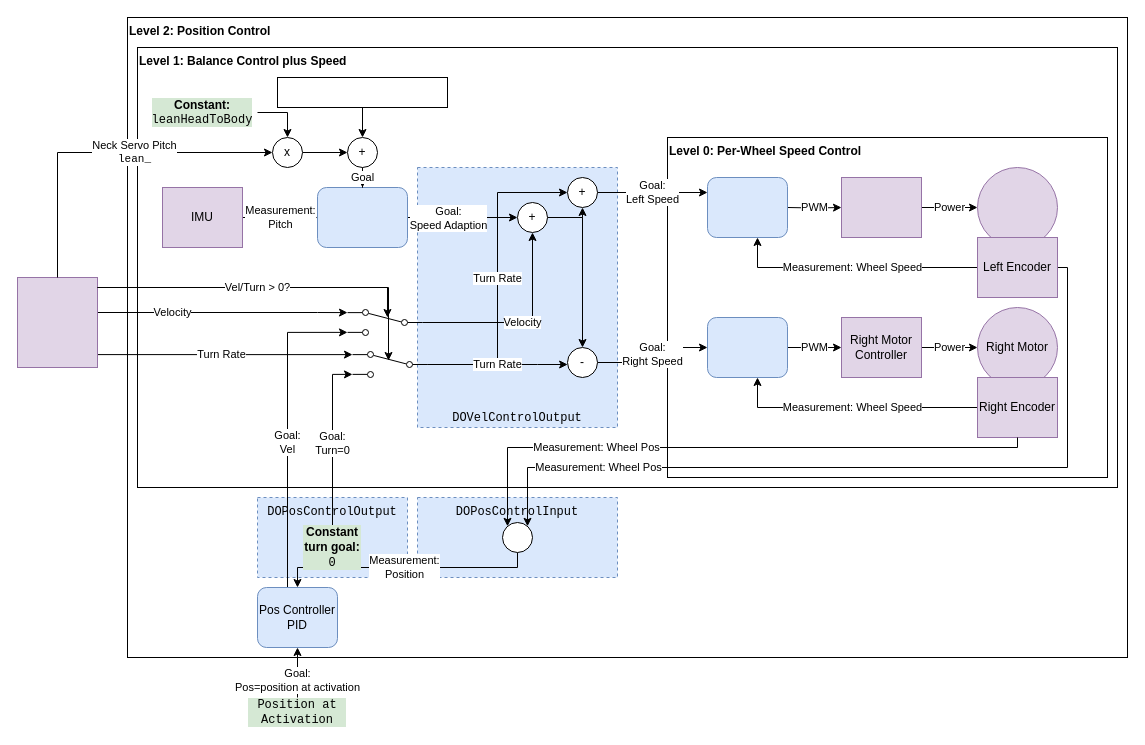
The diagram is 1145 pixels wide and 745 high, and some of its shapes have lost their labels. Each missing label, with the centre of its shape:
avg: point 517,537
Balance Controller PID: point 362,217
Left Motor: point 1017,207
Left Motor Controller: point 881,207
Left Speed Controller PID: point 747,207
Pitch at rest (from calibration): point 362,92
Remote: point 57,322
Right Speed Controller PID: point 747,347
